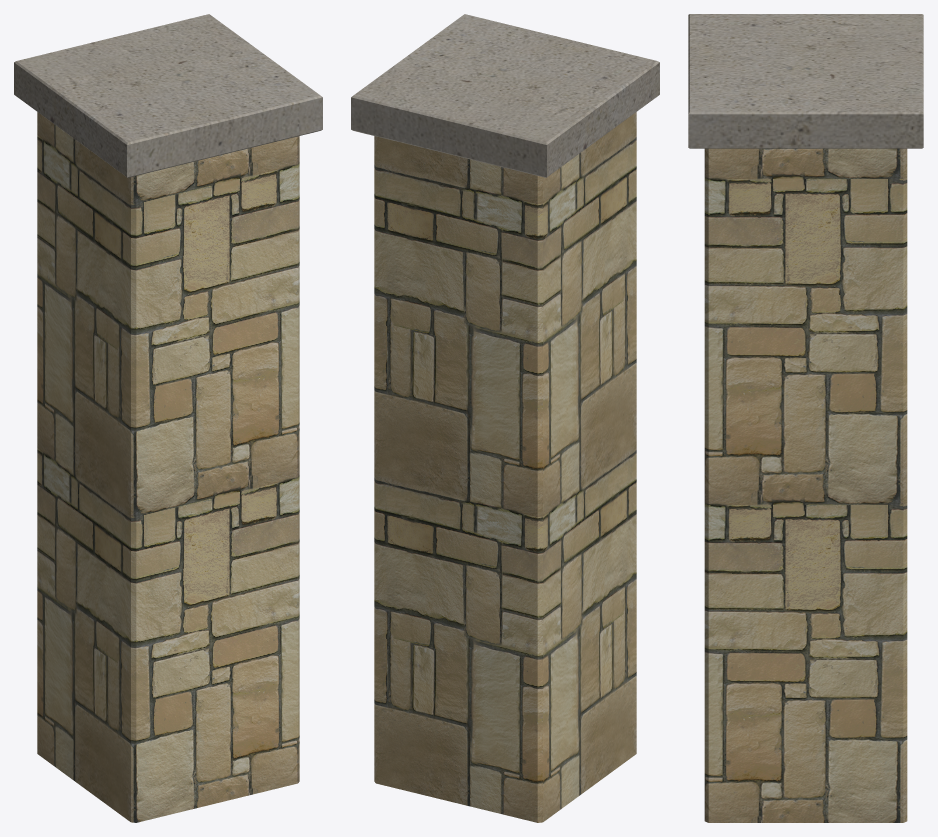
Rendered from column.FBX.
The picture shows the model from 3 angles, left to right: view 1: azimuth 30°, elevation 25°; view 2: azimuth 150°, elevation 25°; view 3: azimuth 270°, elevation 25°; orthographic projection. The views are drawn at different scales.
Visible parts, largest first — view 1: column; view 2: column; view 3: column.
Part boxes in pixels (x1=…): column: x1=14, y1=14, x2=322, y2=822; column: x1=351, y1=14, x2=659, y2=822; column: x1=688, y1=14, x2=923, y2=822.
Bounding box in the file's own units: 58 × 195 × 58.
